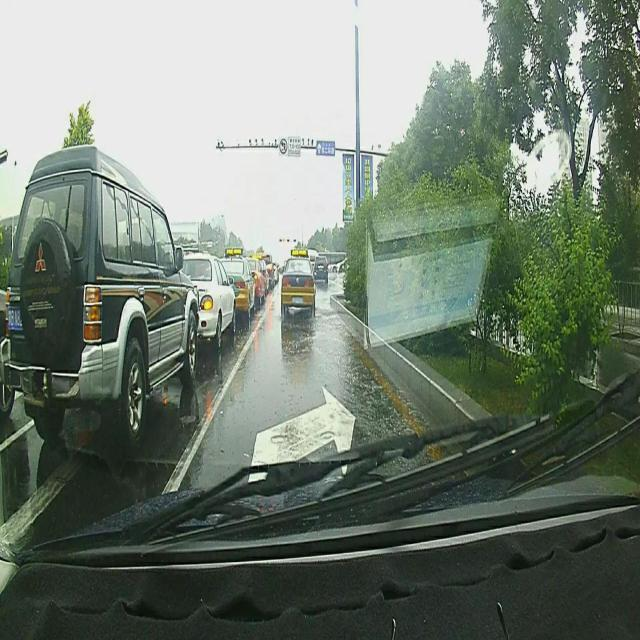car: (2, 144, 196, 440), (175, 252, 236, 346), (216, 248, 256, 320), (280, 248, 316, 318), (241, 258, 268, 306), (312, 253, 328, 285)
